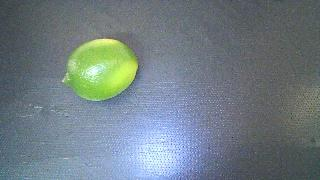EXPORTACION: (62, 39, 138, 101)
